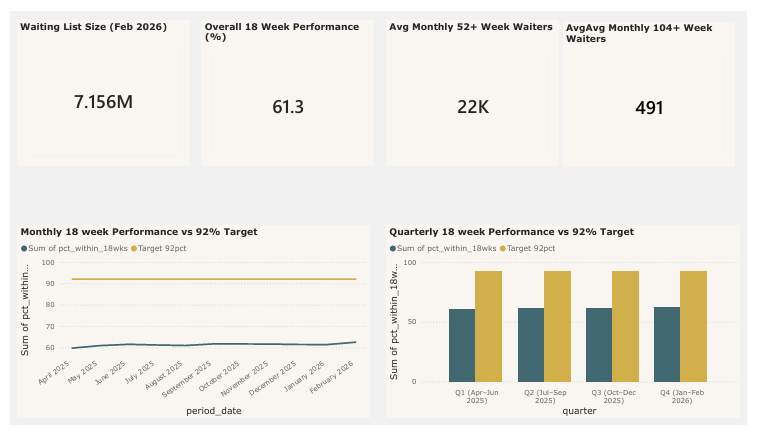

This screenshot's page, from the dashboard's own definition file:
{"tool":"powerbi","page":{"name":"Page 1","canvas":[1280,720],"ordinal":0},"visuals":[{"type":"cardVisual","title":"Waiting List Size (Feb 2026)","fields":{"Data":["public monthly_summary.Waiting List Size Feb 2026"]},"box":[11,15,299,253.3],"z":0},{"type":"cardVisual","title":"Overall 18 Week Performance (%)","fields":{"Data":["public rtt_waiting.Overall Pct Within 18wks"]},"box":[331.7,15,299,253.3],"z":1000},{"type":"cardVisual","title":"Avg Monthly 52+ Week Waiters ","fields":{"Data":["public rtt_waiting.Avg Monthly 52plus Waiters"]},"box":[653.3,15,299,253.3],"z":2000},{"type":"cardVisual","title":"AvgAvg Monthly 104+ Week Waiters","fields":{"Data":["public rtt_waiting.Avg Monthly 104plus Waiters"]},"box":[960,18,298,252],"z":3000},{"type":"lineChart","title":"Monthly 18 week Performance vs 92% Target","fields":{"Y":["Sum(public monthly_summary.pct_within_18wks)","public rtt_waiting.Target 92pct"],"Category":["public monthly_summary.period_date"]},"box":[11.7,373.3,613,335],"z":4000},{"type":"clusteredColumnChart","title":"Quarterly 18 week Performance vs 92% Target","fields":{"Category":["public quarterly_summary.quarter"],"Y":["Sum(public quarterly_summary.pct_within_18wks)","public rtt_waiting.Target 92pct"]},"box":[653.3,373.3,613.3,335],"z":5000}]}

Visuals, with their boxes in screenshot pixels (x1, y1, x2, y2), scaled from the page's 1280x720 canvas onto the 760x437 screenshot:
"Waiting List Size (Feb 2026)" cardVisual: (7, 9, 184, 163)
"Overall 18 Week Performance (%)" cardVisual: (197, 9, 374, 163)
"Avg Monthly 52+ Week Waiters " cardVisual: (388, 9, 565, 163)
"AvgAvg Monthly 104+ Week Waiters" cardVisual: (570, 11, 747, 164)
"Monthly 18 week Performance vs 92% Target" lineChart: (7, 227, 371, 430)
"Quarterly 18 week Performance vs 92% Target" clusteredColumnChart: (388, 227, 752, 430)
